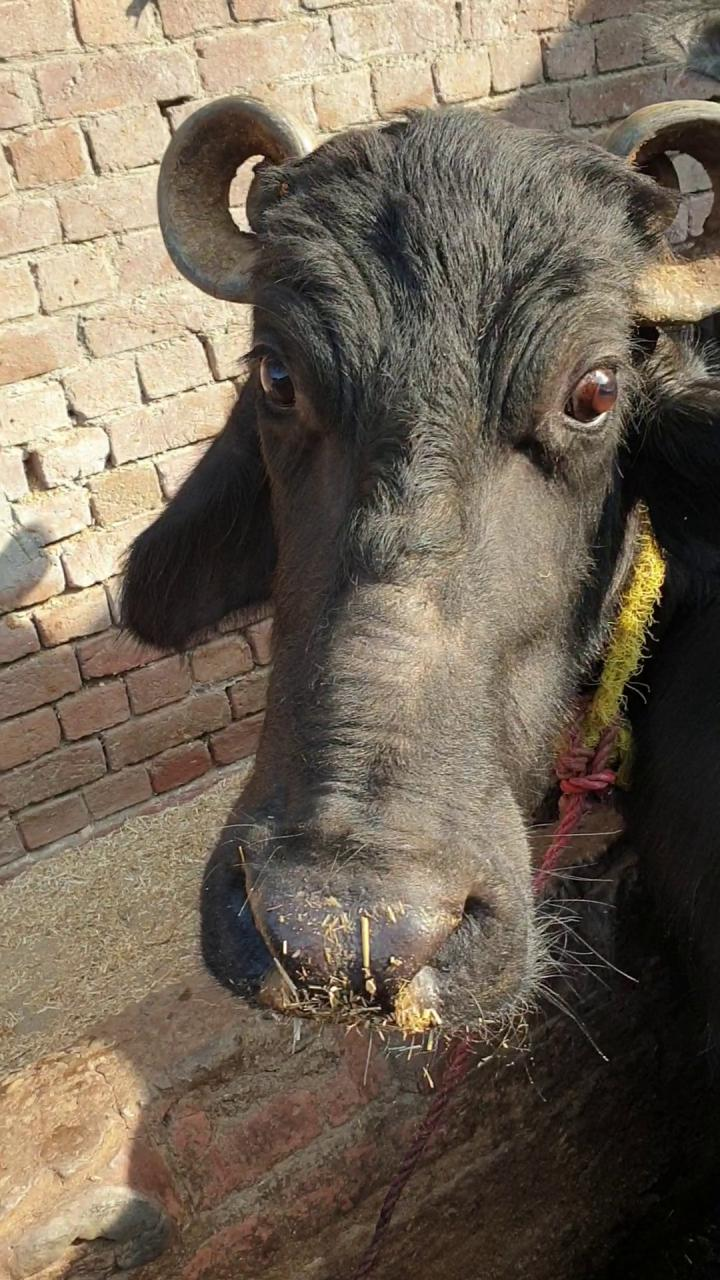cows: (182, 55, 632, 1055)
